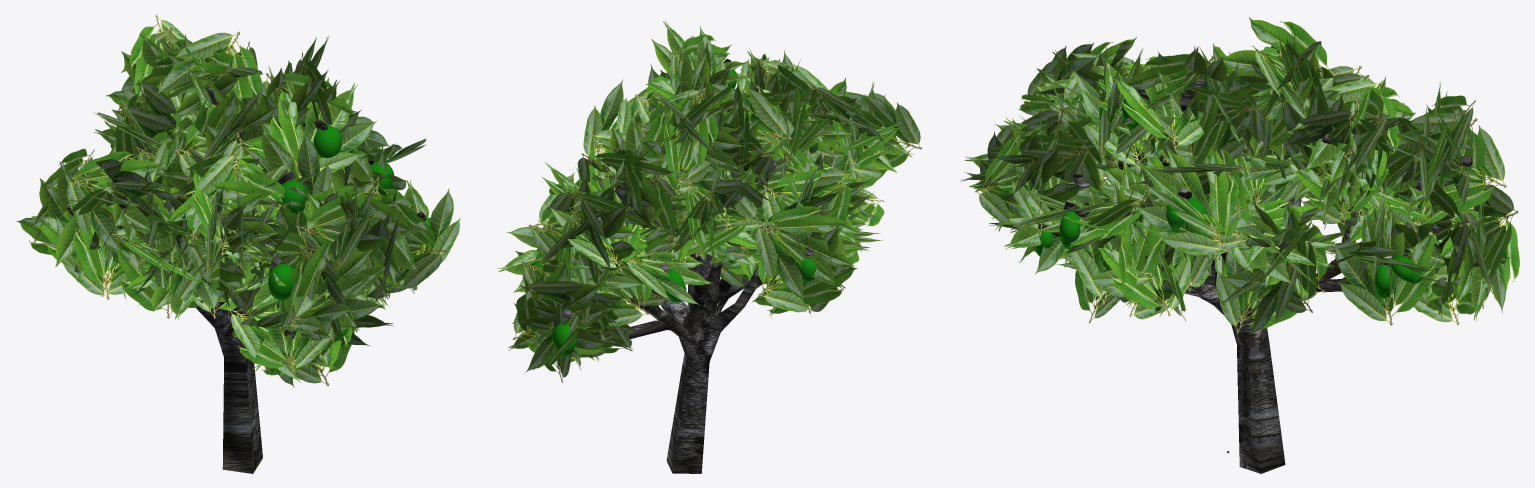
File: mango.glb
The picture shows the model from 3 angles, left to right: view 1: azimuth 30°, elevation 25°; view 2: azimuth 150°, elevation 25°; view 3: azimuth 270°, elevation 25°; orthographic projection. The views are drawn at different scales.
Visible parts, largest first — view 1: ใบมะม่วง (×67), Cube, Raw Mango.011, Raw Mango.002, Raw Mango.010; view 2: ใบมะม่วง (×71), Cube, Raw Mango.009; view 3: ใบมะม่วง (×76), Cube, Raw Mango.003.
Part boxes in pixels (x1,y1,x2,y2): ใบมะม่วง (×67): [16, 14, 460, 385]; Cube: [67, 86, 426, 473]; Raw Mango.011: [314, 125, 341, 157]; Raw Mango.002: [268, 263, 293, 301]; Raw Mango.010: [280, 179, 305, 215]; ใบมะม่วง (×71): [497, 19, 922, 382]; Cube: [563, 59, 818, 473]; Raw Mango.009: [552, 323, 576, 356]; ใบมะม่วง (×76): [960, 17, 1519, 335]; Cube: [1038, 76, 1478, 473]; Raw Mango.003: [1059, 211, 1080, 249].
Size of what is drawn, in the model's own units: 12.85 by 15.69 by 17.8.
17 materials, 3 textured.
